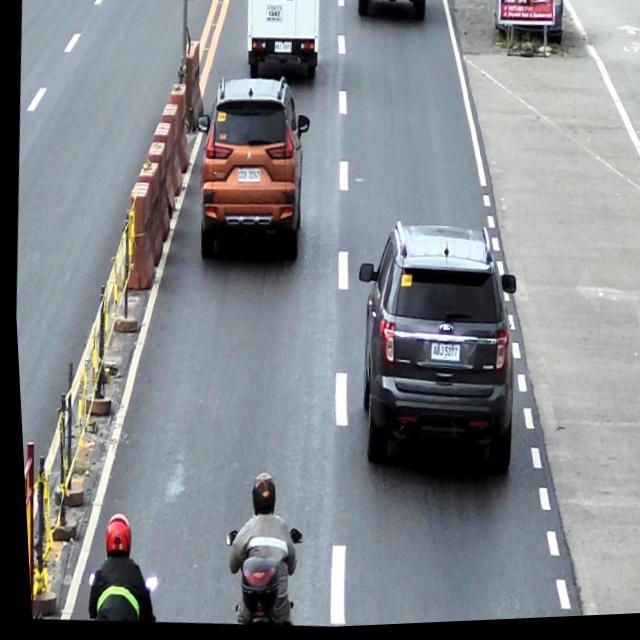Car: (339, 217, 525, 492), (185, 73, 318, 270), (240, 0, 324, 88)
License-Plate: (426, 344, 457, 367), (234, 169, 259, 185), (272, 42, 292, 56)
